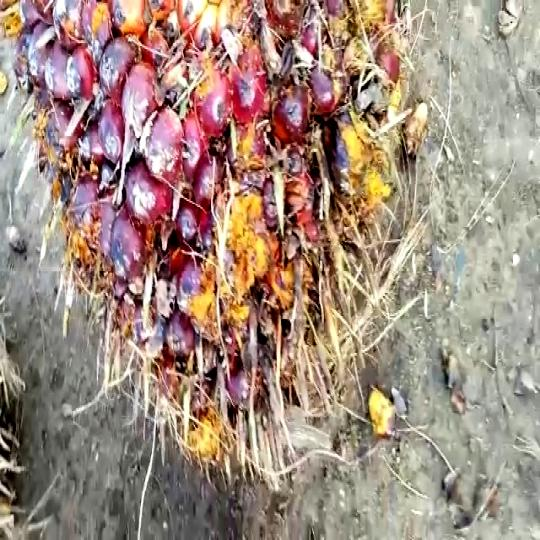masak: (13, 6, 424, 432)
